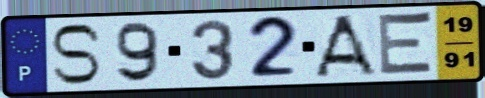2: (242, 14, 306, 84)
3: (187, 18, 236, 82)
9: (113, 20, 161, 84)
A: (311, 13, 380, 78)
E: (377, 10, 437, 78)
S: (47, 22, 104, 87)
